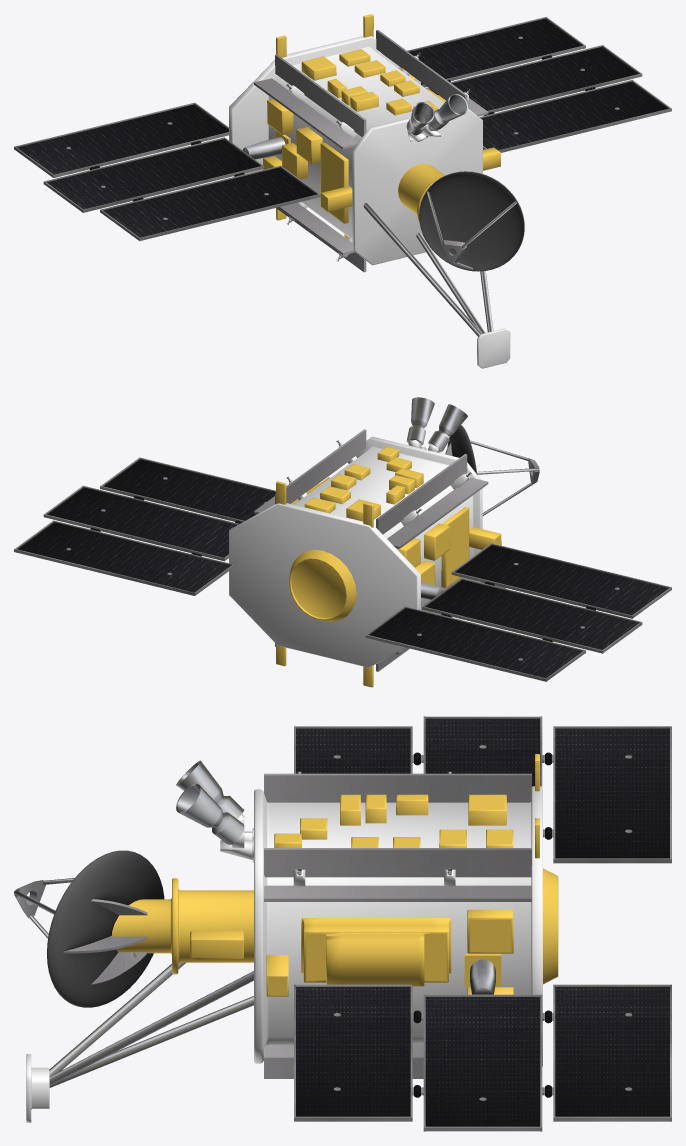
Rendered from QuikSCAT.gltf.
3 renders of one model, top to bottom at view 1: azimuth 30°, elevation 25°; view 2: azimuth 150°, elevation 25°; view 3: azimuth 270°, elevation 25°, orthographic. The views are drawn at different scales.
Visible parts, largest first — view 1: shiny_panel, BUS, Tex_01, foil_gold, Dish; view 2: shiny_panel, BUS, Tex_01, foil_gold, Dish; view 3: shiny_panel, Tex_01, foil_gold, BUS, Dish.
Part boxes in pixels (x1,y1,x2,y2): shiny_panel: (17, 18, 668, 237); BUS: (229, 36, 510, 368); Tex_01: (14, 16, 671, 336); foil_gold: (263, 14, 500, 238); Dish: (419, 171, 524, 271); shiny_panel: (17, 459, 668, 678); BUS: (229, 436, 505, 667); Tex_01: (14, 397, 671, 681); foil_gold: (276, 446, 501, 687); Dish: (447, 425, 477, 474); shiny_panel: (296, 718, 669, 1126); Tex_01: (14, 716, 671, 1131); foil_gold: (111, 754, 558, 996); BUS: (26, 786, 542, 1122); Dish: (47, 850, 164, 1007).
Size of the model in its own units: 3.8 by 1.46 by 2.57.
5 materials, 3 textured.
